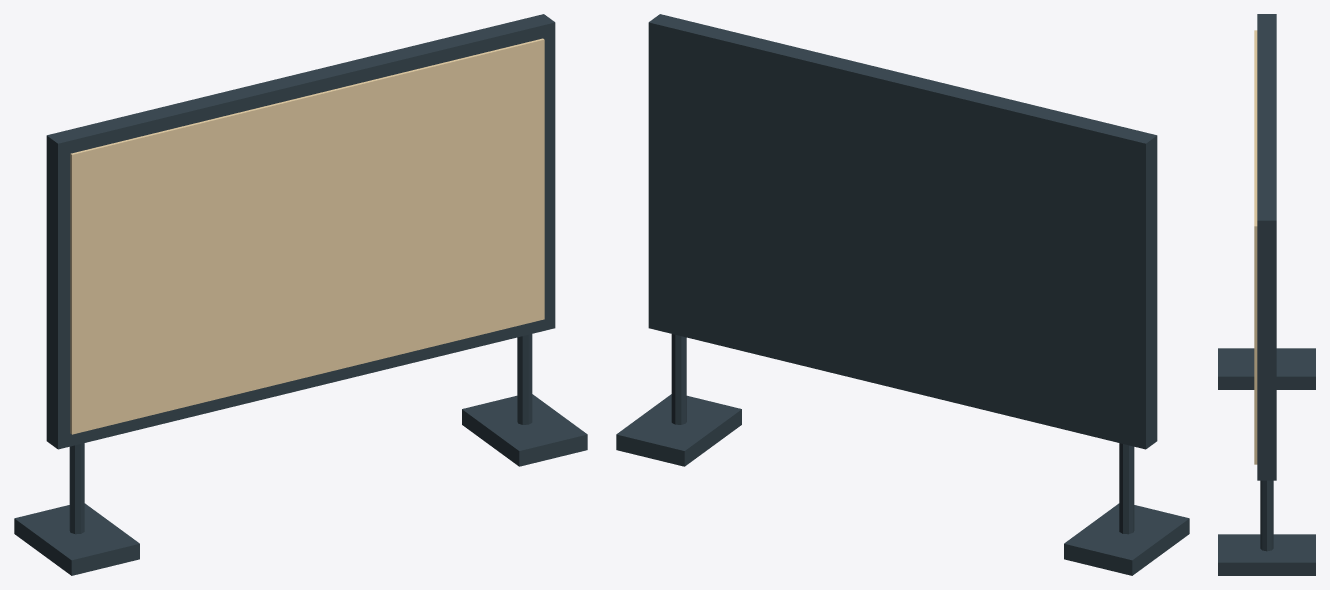
File: projector_screen.glb
3 views of the same model, side by side, from view 1: azimuth 30°, elevation 25°; view 2: azimuth 150°, elevation 25°; view 3: azimuth 270°, elevation 25° (orthographic). The views are drawn at different scales.
Visible parts, largest first — view 1: screen, frame, foot.001, foot, post.001, post; view 2: frame, foot.001, foot, post.001, post; view 3: frame, foot.001, foot, screen, post.001.
Boxes of the visible parts, bbox=[...] form: screen: bbox=[70, 38, 544, 434]; frame: bbox=[46, 14, 555, 449]; foot.001: bbox=[462, 394, 587, 466]; foot: bbox=[14, 503, 139, 575]; post.001: bbox=[517, 334, 532, 424]; post: bbox=[69, 443, 84, 534]; frame: bbox=[648, 14, 1157, 449]; foot.001: bbox=[616, 394, 741, 466]; foot: bbox=[1064, 503, 1189, 575]; post.001: bbox=[671, 334, 686, 424]; post: bbox=[1119, 443, 1134, 534]; frame: bbox=[1257, 14, 1276, 480]; foot.001: bbox=[1218, 534, 1315, 575]; foot: bbox=[1218, 348, 1315, 389]; screen: bbox=[1254, 30, 1257, 464]; post.001: bbox=[1260, 480, 1273, 551].
Size of the model in its own units: 4.15 by 3.17 by 0.8.
